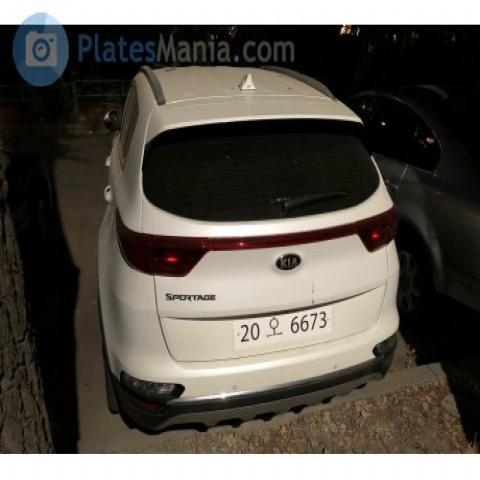LP: (230, 300, 336, 352)
